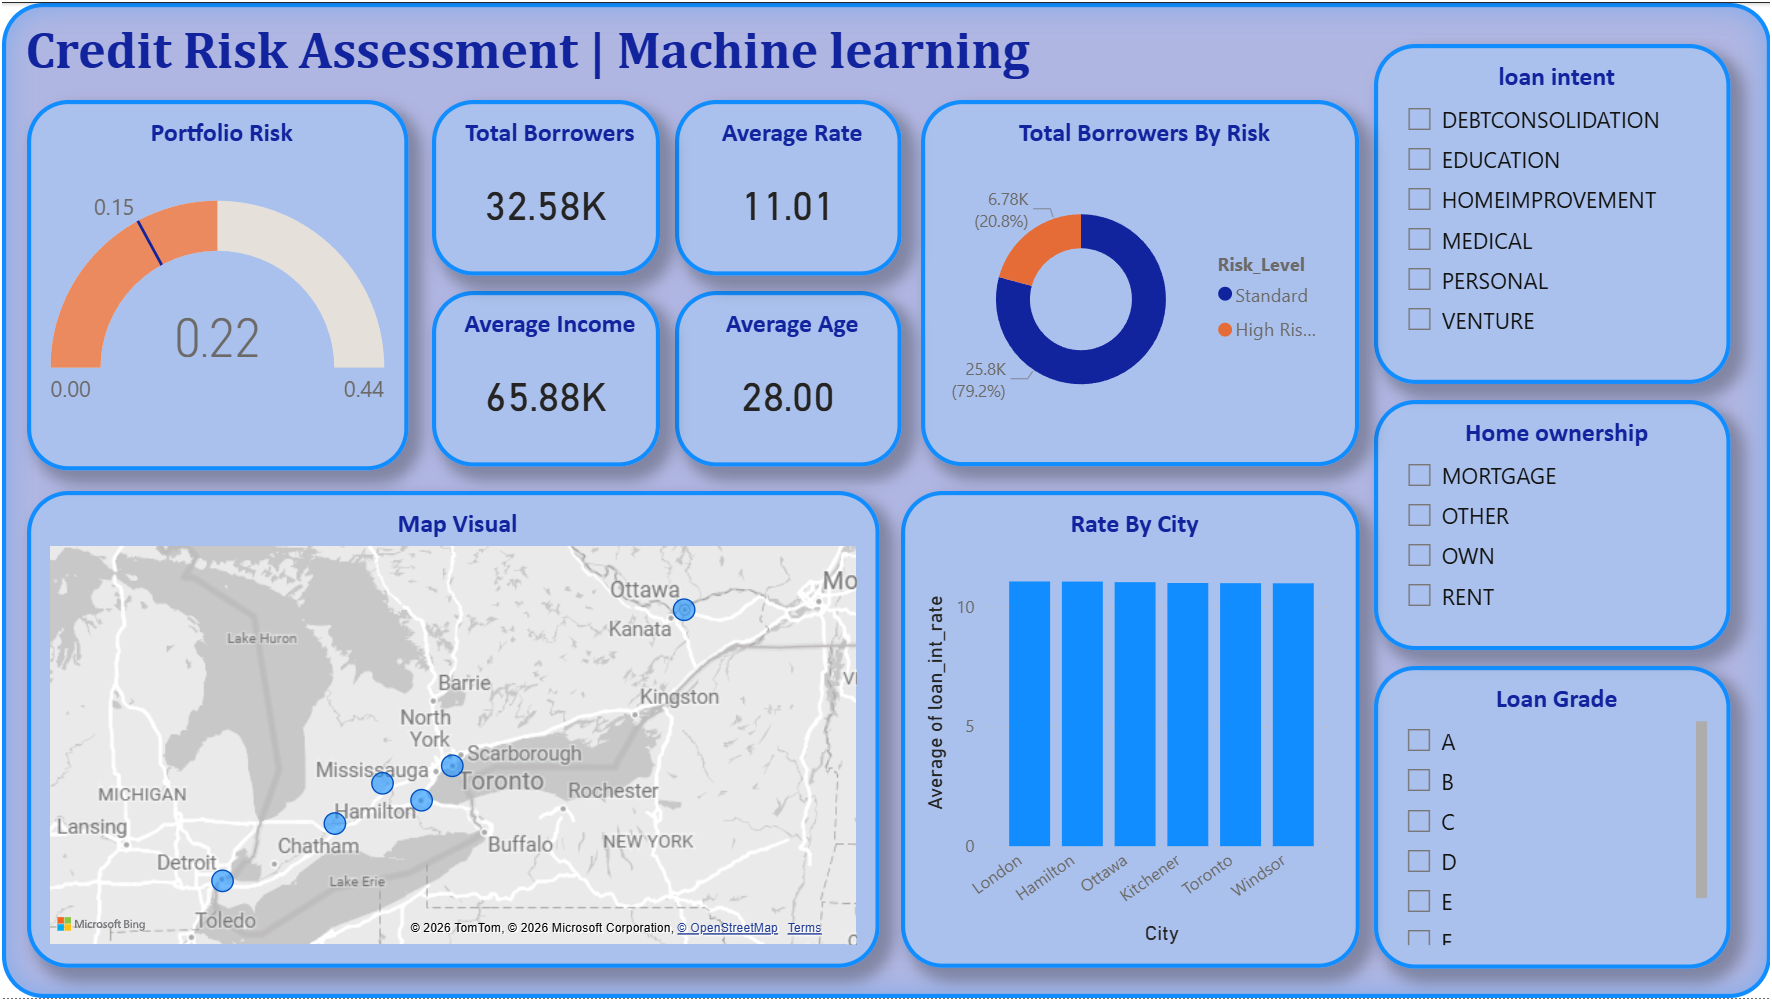

Layout of this report page (visuals, bound fields, positions):
{"tool":"powerbi","page":{"name":"Main","canvas":[1280,720],"ordinal":0},"visuals":[{"type":"textbox","title":"Credit Risk Assessment | Machine learning","box":[0,0,1280.1,720],"z":0},{"type":"gauge","title":"Portfolio Risk","fields":{"Y":["Avg(Fact_Credit_Risk.Default_Probability)"],"TargetValue":["Fact_Credit_Risk.Risk Target"]},"box":[18,70.1,275.5,268.4],"z":1000},{"type":"lineClusteredColumnComboChart","title":"Rate By City","fields":{"Category":["Dim_Locations.City"],"Y":["Avg(Fact_Credit_Risk.loan_int_rate)"]},"box":[650.5,353.4,331.8,345],"z":2000},{"type":"slicer","title":"loan intent","fields":{"Values":["Fact_Credit_Risk.loan_intent"]},"box":[993.1,30,258.2,246.2],"z":3000},{"type":"map","title":"Map Visual","fields":{"Y":["Dim_Locations.Latitude"],"X":["Dim_Locations.Longitude"]},"box":[18,353.4,617,345],"z":4000},{"type":"slicer","title":"Home ownership","fields":{"Values":["Fact_Credit_Risk.person_home_ownership"]},"box":[993.1,286.9,258.2,180.9],"z":5000},{"type":"slicer","title":"Loan Grade","fields":{"Values":["Fact_Credit_Risk.loan_grade"]},"box":[993.1,479.8,258.2,218.6],"z":6000},{"type":"card","title":"Average Age","fields":{"Values":["Fact_Credit_Risk.Average Age"]},"box":[487,208.5,163.5,127],"z":7000},{"type":"card","title":"Average Rate","fields":{"Values":["Avg(Fact_Credit_Risk.loan_int_rate)"]},"box":[487,70.1,163.5,127],"z":8000},{"type":"card","title":"Average Income","fields":{"Values":["Avg(Fact_Credit_Risk.person_income)"]},"box":[311.5,208.5,164.7,127],"z":9000},{"type":"card","title":"Total Borrowers","fields":{"Values":["CountNonNull(Fact_Credit_Risk.id)"]},"box":[311.5,70.1,164.7,127],"z":10000},{"type":"donutChart","title":"Total Borrowers By Risk","fields":{"Category":["Fact_Credit_Risk.Risk_Level"],"Y":["CountNonNull(Fact_Credit_Risk.id)"]},"box":[664.9,70.1,317.5,265.4],"z":11000}]}

Visuals, with their boxes in screenshot pixels (x1, y1, x2, y2), scaled from the page's 1280x720 canvas onto the 1772x1001 screenshot:
"Credit Risk Assessment | Machine learning" textbox: select_region(0, 0, 1771, 1000)
"Portfolio Risk" gauge: select_region(25, 97, 406, 471)
"Rate By City" lineClusteredColumnComboChart: select_region(901, 491, 1360, 971)
"loan intent" slicer: select_region(1375, 42, 1732, 384)
"Map Visual" map: select_region(25, 491, 879, 971)
"Home ownership" slicer: select_region(1375, 399, 1732, 650)
"Loan Grade" slicer: select_region(1375, 667, 1732, 971)
"Average Age" card: select_region(674, 290, 901, 466)
"Average Rate" card: select_region(674, 97, 901, 274)
"Average Income" card: select_region(431, 290, 659, 466)
"Total Borrowers" card: select_region(431, 97, 659, 274)
"Total Borrowers By Risk" donutChart: select_region(920, 97, 1360, 466)
